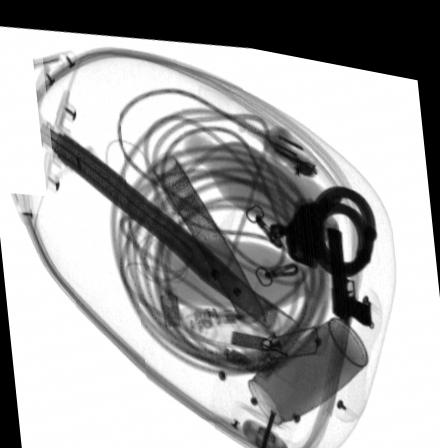Gun: (326, 213, 370, 314)
HandCuffs: (269, 172, 376, 264)
